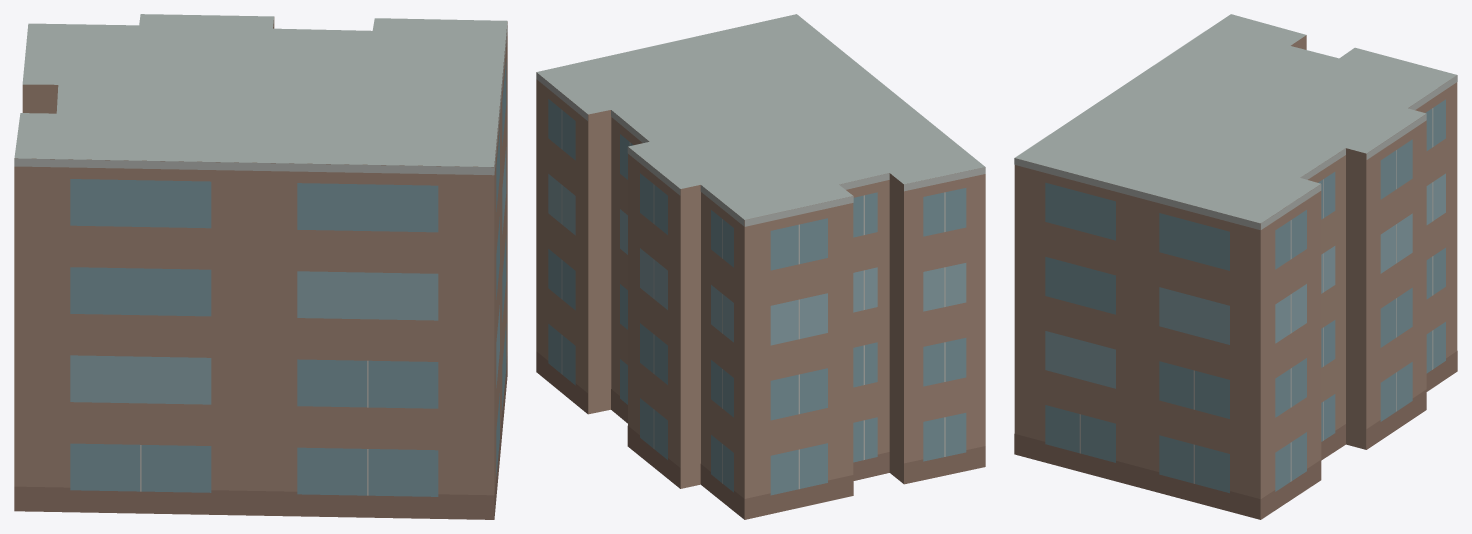
Rendered from survey-upis-32887666.glb.
3 renders of one model, left to right at view 1: azimuth 30°, elevation 25°; view 2: azimuth 150°, elevation 25°; view 3: azimuth 270°, elevation 25°, orthographic. The views are drawn at different scales.
Visible parts, largest first — view 1: survey-upis-32887666.tmp; view 2: survey-upis-32887666.tmp; view 3: survey-upis-32887666.tmp.
Boxes of the visible parts, bbox=[...] form: survey-upis-32887666.tmp: bbox=[14, 14, 507, 519]; survey-upis-32887666.tmp: bbox=[536, 14, 985, 519]; survey-upis-32887666.tmp: bbox=[1014, 14, 1457, 519].
Size of the model in its own units: 16.07 by 10.6 by 14.37.
